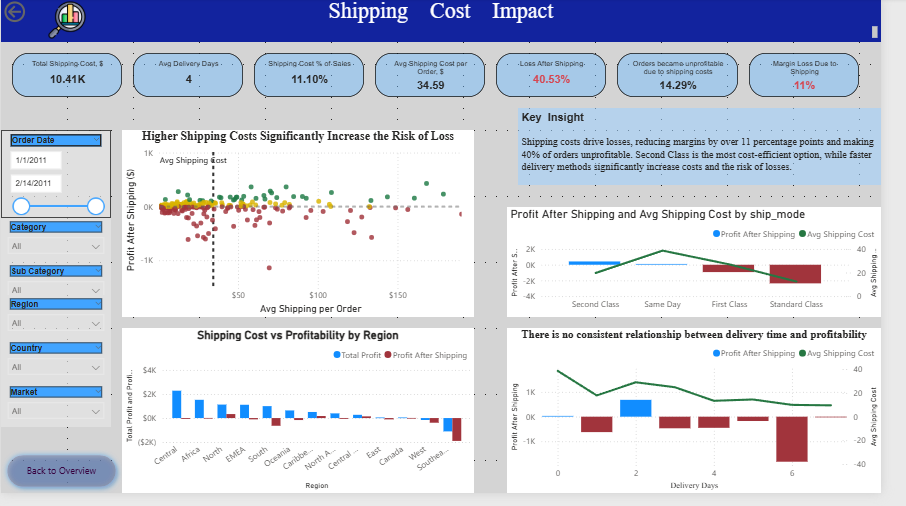

What the dashboard file says about the page in this screenshot:
{"tool":"powerbi","page":{"name":"Shipping Cost Impact","canvas":[1280,720],"ordinal":2},"visuals":[{"type":"image","box":[0,0,171.5,105.7],"z":0},{"type":"textbox","title":"Shipping    Cost    Impact","box":[0,0,1280,64],"z":1000},{"type":"card","title":"Total Shipping Cost, $","fields":{"Values":["Sum(DATASET.shipping_cost)"]},"box":[0,80,176,80],"z":2000},{"type":"slicer","fields":{"Values":["DATASET.order_date"]},"box":[0,192,160,128],"z":3000},{"type":"slicer","fields":{"Values":["DATASET.country"]},"box":[0,496,160,64],"z":4000},{"type":"slicer","fields":{"Values":["DATASET.sub_category"]},"box":[0,384,160,48],"z":5000},{"type":"card","title":"Shipping Cost % of Sales","fields":{"Values":["DATASET.Shipping %"]},"box":[368,80,160,80],"z":6000},{"type":"actionButton","box":[0,0,100,40],"z":7000},{"type":"card","title":"Loss After Shipping ","fields":{"Values":["DATASET.Loss After Shipping %"]},"box":[752,80,160,80],"z":8000},{"type":"actionButton","box":[0,656,160,64],"z":9000},{"type":"card","title":"Avg Shipping Cost per Order, $","fields":{"Values":["DATASET.Avg Shipping per Order"]},"box":[544,80,176,80],"z":10000},{"type":"image","box":[0,0,192,64],"z":11000},{"type":"clusteredColumnChart","title":"Shipping Cost vs Profitability by Region","fields":{"Category":["DATASET.region"],"Y":["Sum(DATASET.profit)","DATASET.Profit After Shipping"]},"box":[176,480,512,240],"z":12000},{"type":"slicer","fields":{"Values":["DATASET.region"]},"box":[0,432,160,64],"z":13000},{"type":"slicer","fields":{"Values":["DATASET.category"]},"box":[0,320,160,64],"z":14000},{"type":"card","title":"Orders became unprofitable due to shipping costs","fields":{"Values":["DATASET.Orders Turned Unprofitable %"]},"box":[928,80,176,80],"z":15000},{"type":"card","title":"Margin Loss Due to Shipping","fields":{"Values":["DATASET.Margin Impact from Shipping"]},"box":[1120,80,160,80],"z":16000},{"type":"textbox","box":[736,176,544,112],"z":17000},{"type":"slicer","fields":{"Values":["DATASET.market"]},"box":[0,560,160,64],"z":18000},{"type":"scatterChart","title":"Higher Shipping Costs Significantly Increase the Risk of Loss","fields":{"Y":["DATASET.Profit After Shipping"],"Category":["DATASET.order_id"],"X":["DATASET.Avg Shipping per Order"]},"box":[176,192,512,272],"z":19000},{"type":"lineClusteredColumnComboChart","title":"There is no consistent relationship between delivery time and profitability","fields":{"Category":["DATASET.delivery_days"],"Y":["DATASET.Profit After Shipping"],"Y2":["DATASET.Avg Shipping Cost"]},"box":[736,480,544,240],"z":20000},{"type":"card","title":"Avg Delivery Days","fields":{"Values":["Avg(DATASET.delivery_days)"]},"box":[192,80,160,80],"z":21000},{"type":"lineStackedColumnComboChart","fields":{"Category":["DATASET.ship_mode"],"Y":["DATASET.Profit After Shipping"],"Y2":["DATASET.Avg Shipping Cost"]},"box":[736,288,544,176],"z":22000}]}

Visuals, with their boxes in screenshot pixels (x1, y1, x2, y2), scaled from the page's 1280x720 canvas onto the 906x506 screenshot:
image: region(0, 0, 121, 74)
"Shipping    Cost    Impact" textbox: region(0, 0, 905, 45)
"Total Shipping Cost, $" card: region(0, 56, 125, 112)
slicer - DATASET.order_date: region(0, 135, 113, 225)
slicer - DATASET.country: region(0, 349, 113, 394)
slicer - DATASET.sub_category: region(0, 270, 113, 304)
"Shipping Cost % of Sales" card: region(260, 56, 374, 112)
actionButton: region(0, 0, 71, 28)
"Loss After Shipping " card: region(532, 56, 646, 112)
actionButton: region(0, 461, 113, 505)
"Avg Shipping Cost per Order, $" card: region(385, 56, 510, 112)
image: region(0, 0, 136, 45)
"Shipping Cost vs Profitability by Region" clusteredColumnChart: region(125, 337, 487, 505)
slicer - DATASET.region: region(0, 304, 113, 349)
slicer - DATASET.category: region(0, 225, 113, 270)
"Orders became unprofitable due to shipping costs" card: region(657, 56, 781, 112)
"Margin Loss Due to Shipping" card: region(793, 56, 905, 112)
textbox: region(521, 124, 905, 202)
slicer - DATASET.market: region(0, 394, 113, 439)
"Higher Shipping Costs Significantly Increase the Risk of Loss" scatterChart: region(125, 135, 487, 326)
"There is no consistent relationship between delivery time and profitability" lineClusteredColumnComboChart: region(521, 337, 905, 505)
"Avg Delivery Days" card: region(136, 56, 249, 112)
lineStackedColumnComboChart - DATASET.ship_mode x DATASET.Profit After Shipping: region(521, 202, 905, 326)
